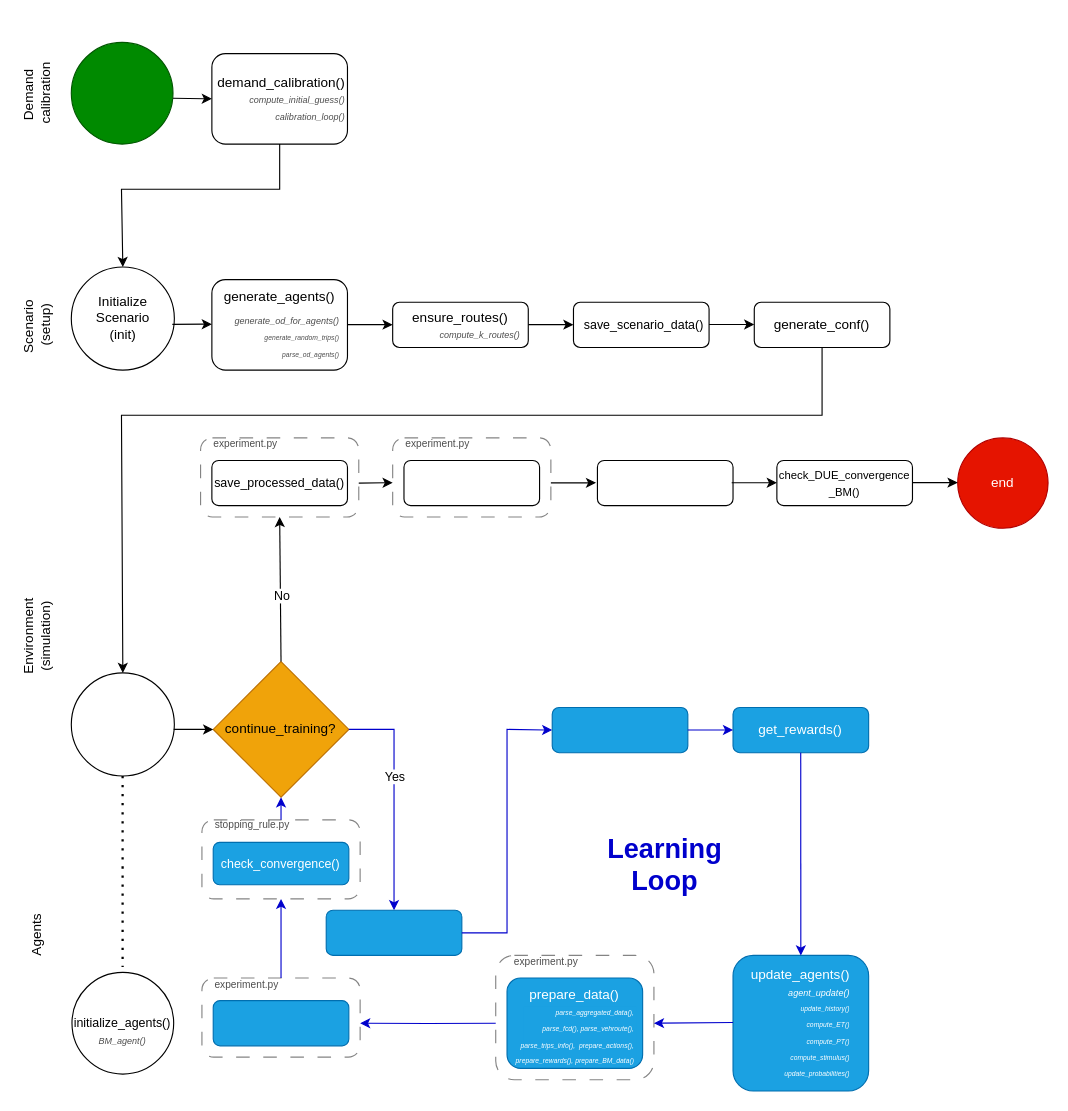
Some shapes in this 1068 by 1111 pixel diagram are drawn without their labels. Each missing label, with the centre of its shape:
accumulate_results(): point (280, 1022)
check_DUE_convergence _dueIterate(): point (664, 482)
Initialize Environment (init): point (122, 724)
make_plots (): point (471, 482)
run_episode() generate_routes_file(): point (619, 729)
select_actions(): point (393, 932)
start: point (121, 92)
